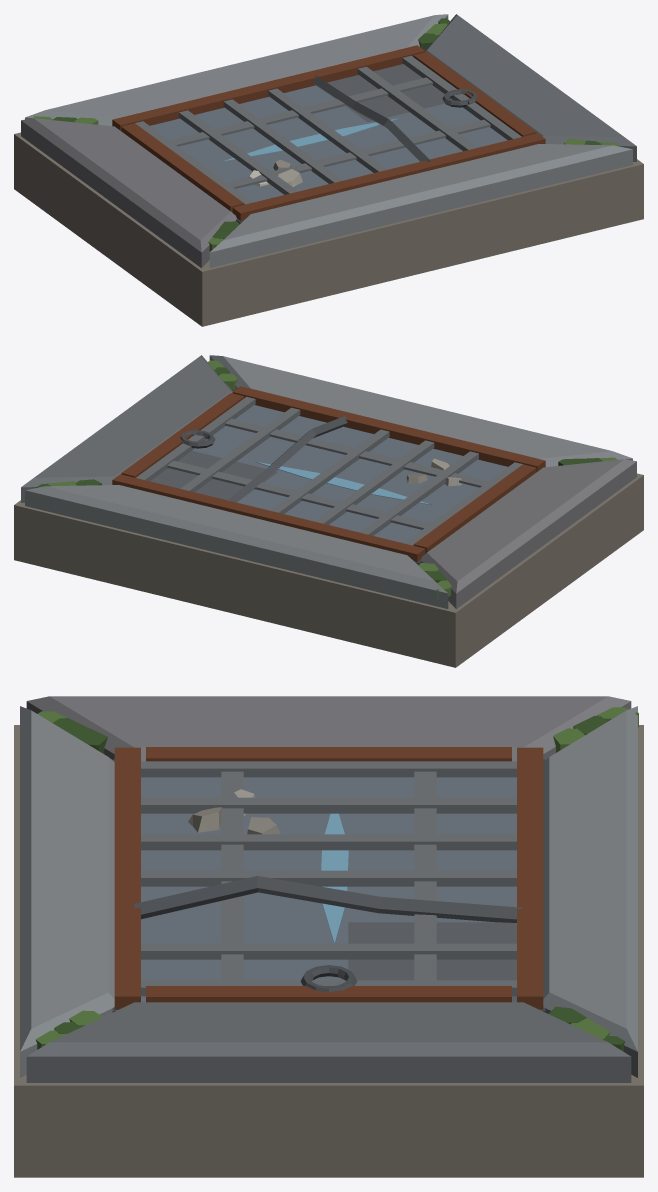
Rendered from SM_LPD_Struct_SewerGrateFloor_01.fbx.
3 renders of one model, top to bottom at view 1: azimuth 30°, elevation 25°; view 2: azimuth 150°, elevation 25°; view 3: azimuth 270°, elevation 25°, orthographic. The views are drawn at different scales.
Parts seen in each view (by area): view 1: SM_LPD_Struct_SewerGrateFloor_01; view 2: SM_LPD_Struct_SewerGrateFloor_01; view 3: SM_LPD_Struct_SewerGrateFloor_01.
Part boxes in pixels (left/top/right/bottom): SM_LPD_Struct_SewerGrateFloor_01: left=14, top=14, right=643, bottom=326; SM_LPD_Struct_SewerGrateFloor_01: left=14, top=355, right=643, bottom=667; SM_LPD_Struct_SewerGrateFloor_01: left=14, top=696, right=643, bottom=1177.
Bounding box in the file's own units: 1.68 × 0.332 × 1.24.
